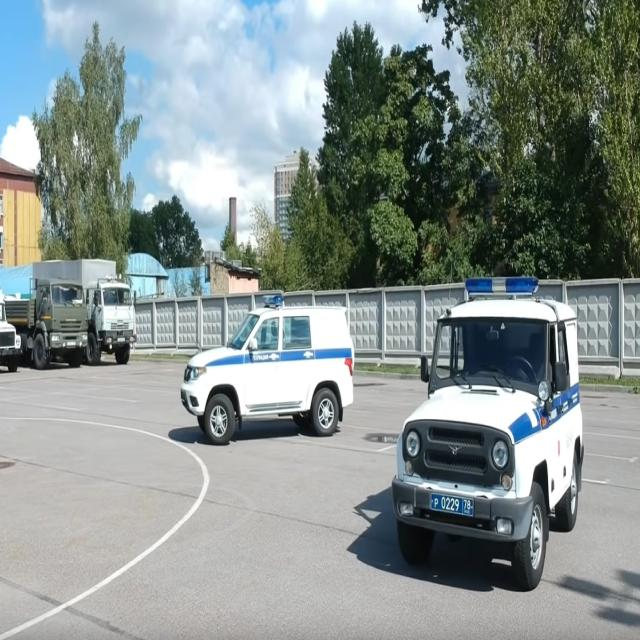non emergency car: (32, 259, 136, 368), (7, 279, 88, 375)
police car: (390, 271, 589, 598), (177, 286, 358, 451)
